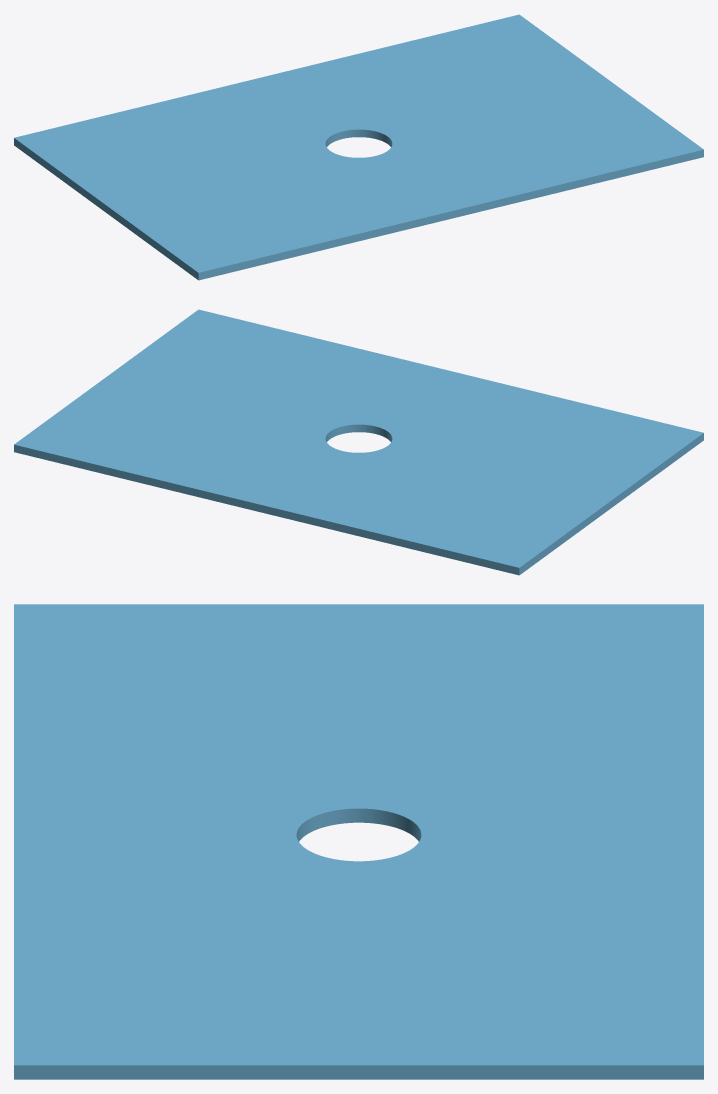
The picture shows the model from 3 angles, top to bottom: view 1: azimuth 30°, elevation 25°; view 2: azimuth 150°, elevation 25°; view 3: azimuth 270°, elevation 25°; orthographic projection. The views are drawn at different scales.
Visible parts, largest first — view 1: G01_body; view 2: G01_body; view 3: G01_body.
Boxes of the visible parts, x1,y1,x2,y2 form: G01_body: [14, 14, 703, 280]; G01_body: [14, 309, 703, 575]; G01_body: [14, 604, 703, 1079].
Size of the model in its own units: 154 by 2.21 by 97.42.
